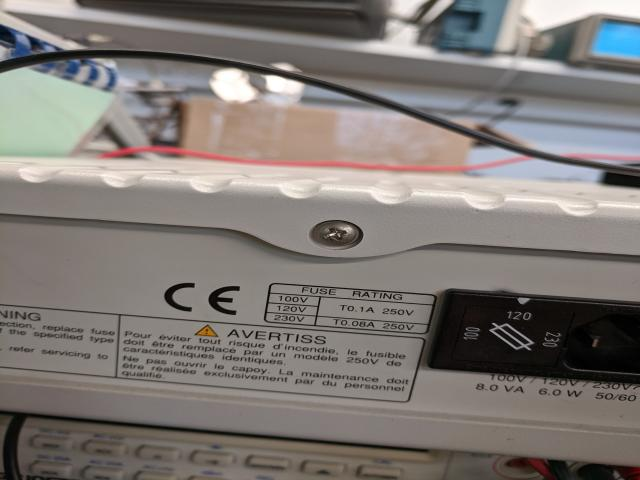CRS: (311, 218, 363, 248)
